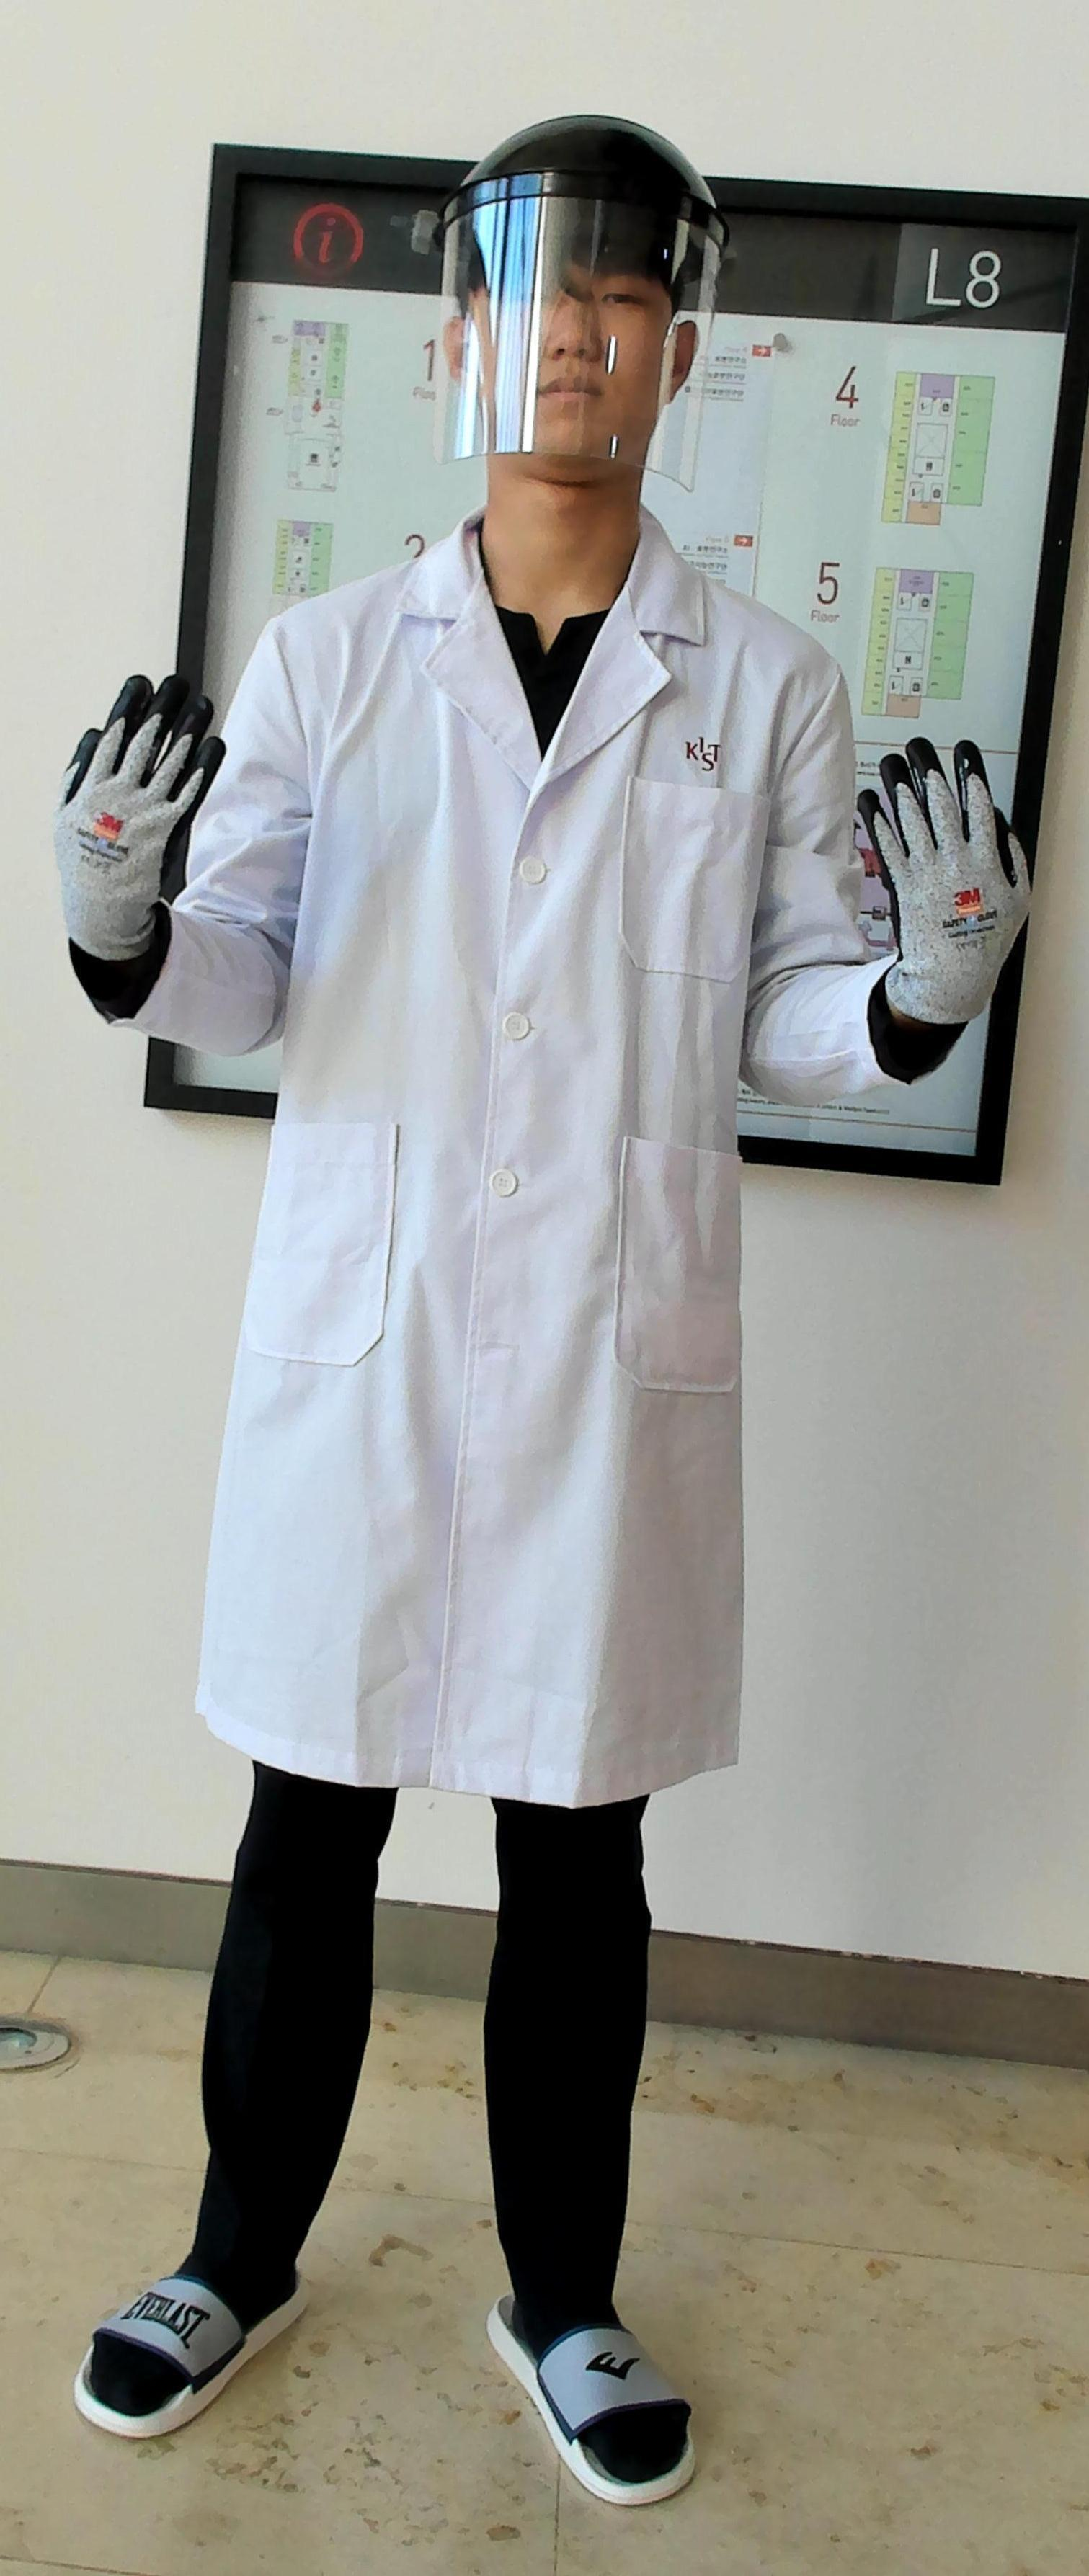lab_coat: (215, 621, 829, 1781)
